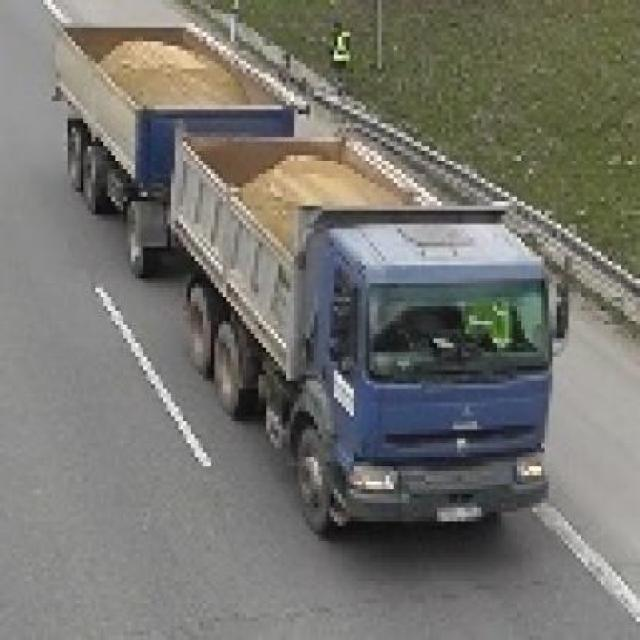truck: (53, 15, 570, 536)
